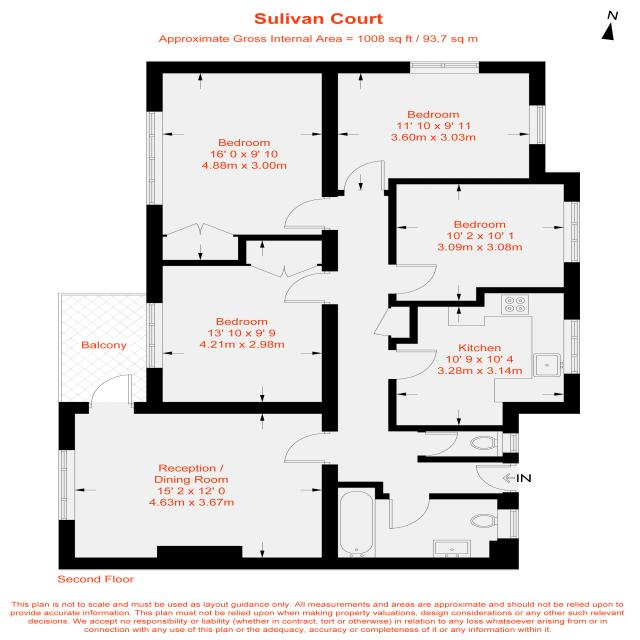DOOR: (86, 372, 136, 415), (280, 196, 340, 231), (281, 271, 339, 304), (387, 263, 440, 297), (387, 492, 433, 531), (341, 158, 386, 197), (386, 349, 439, 382), (281, 432, 335, 464), (471, 464, 520, 492), (416, 431, 460, 457)
ROOM: (56, 373, 340, 570), (145, 61, 339, 267), (144, 234, 339, 415), (321, 61, 546, 196), (388, 286, 581, 431), (388, 172, 581, 308)
WINDOW: (145, 110, 164, 206), (57, 448, 77, 522), (145, 301, 165, 370), (562, 201, 582, 264), (562, 318, 582, 375), (409, 60, 481, 75), (495, 508, 521, 540), (527, 104, 547, 145), (501, 431, 520, 455)
